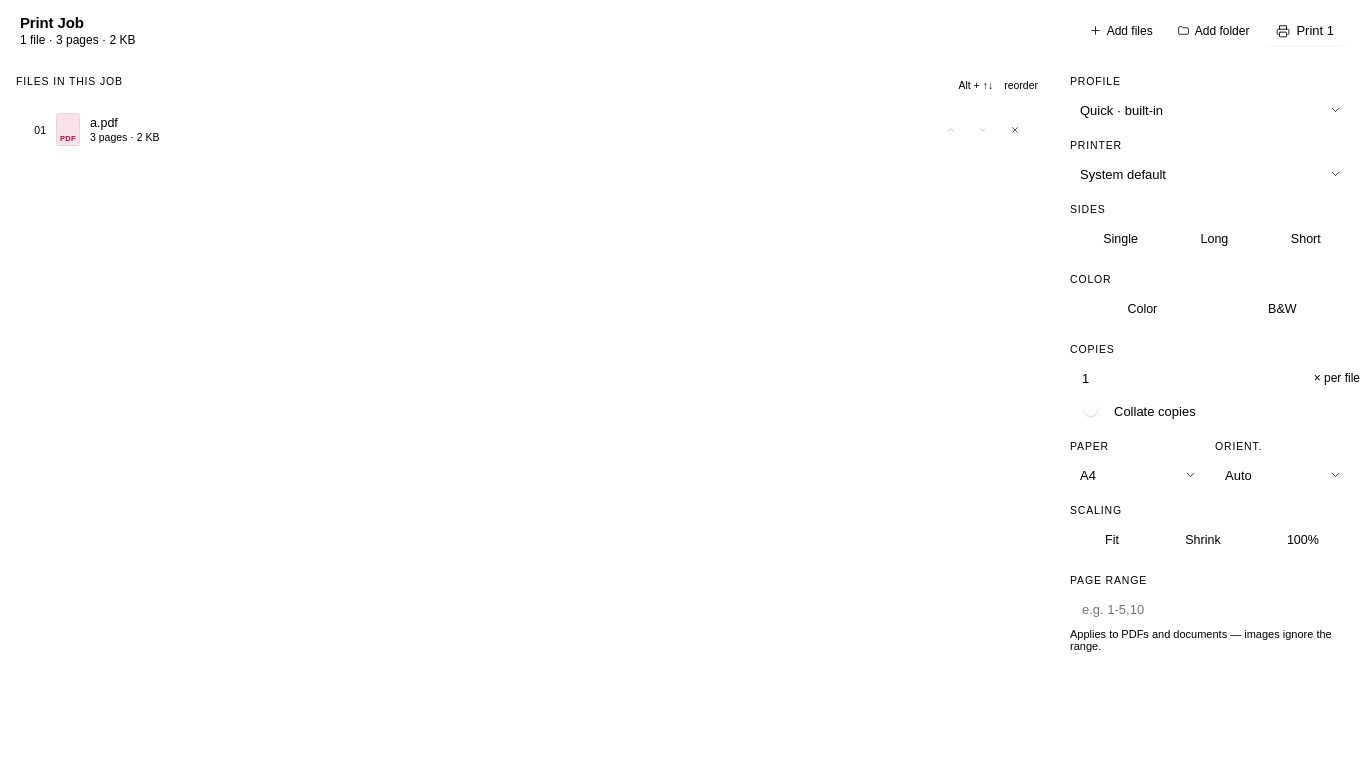
Test: PrintJobScreen › flags an inverted page range and disables Print
Type "5-1" into the field with placeholder "e.g. 1-5,10". click: (1220, 609)
box: x1=1080 y1=593 x2=1360 y2=625
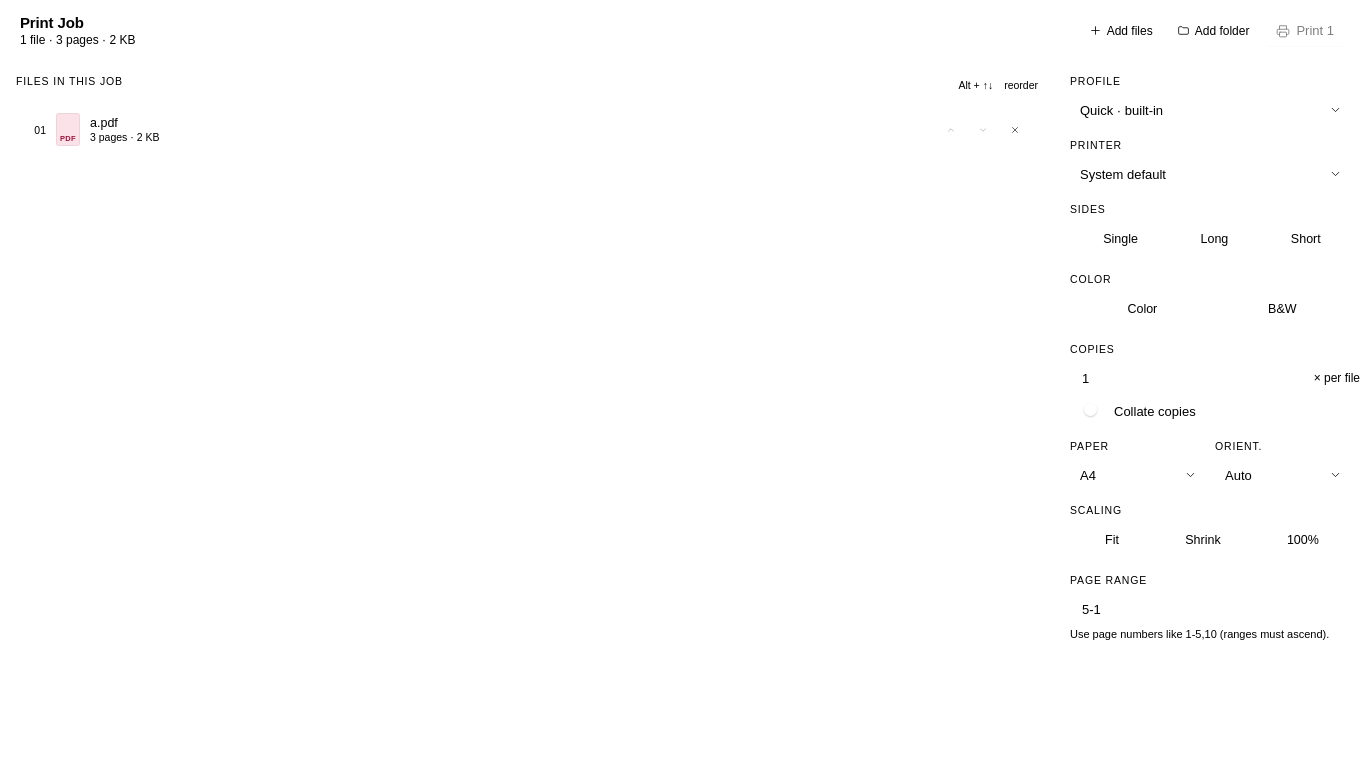
expect the text "Use page numbers like 1-5,10 (ranges must ascend)." is shown: met, box x1=1070 y1=628 x2=1350 y2=640
expect the button "Print 1" is disabled: met, box x1=1264 y1=16 x2=1346 y2=46
Replace the text in the field with placeholder "e.g. 1-5,10" with "1-3". click: (1220, 609)
box: x1=1080 y1=593 x2=1360 y2=625
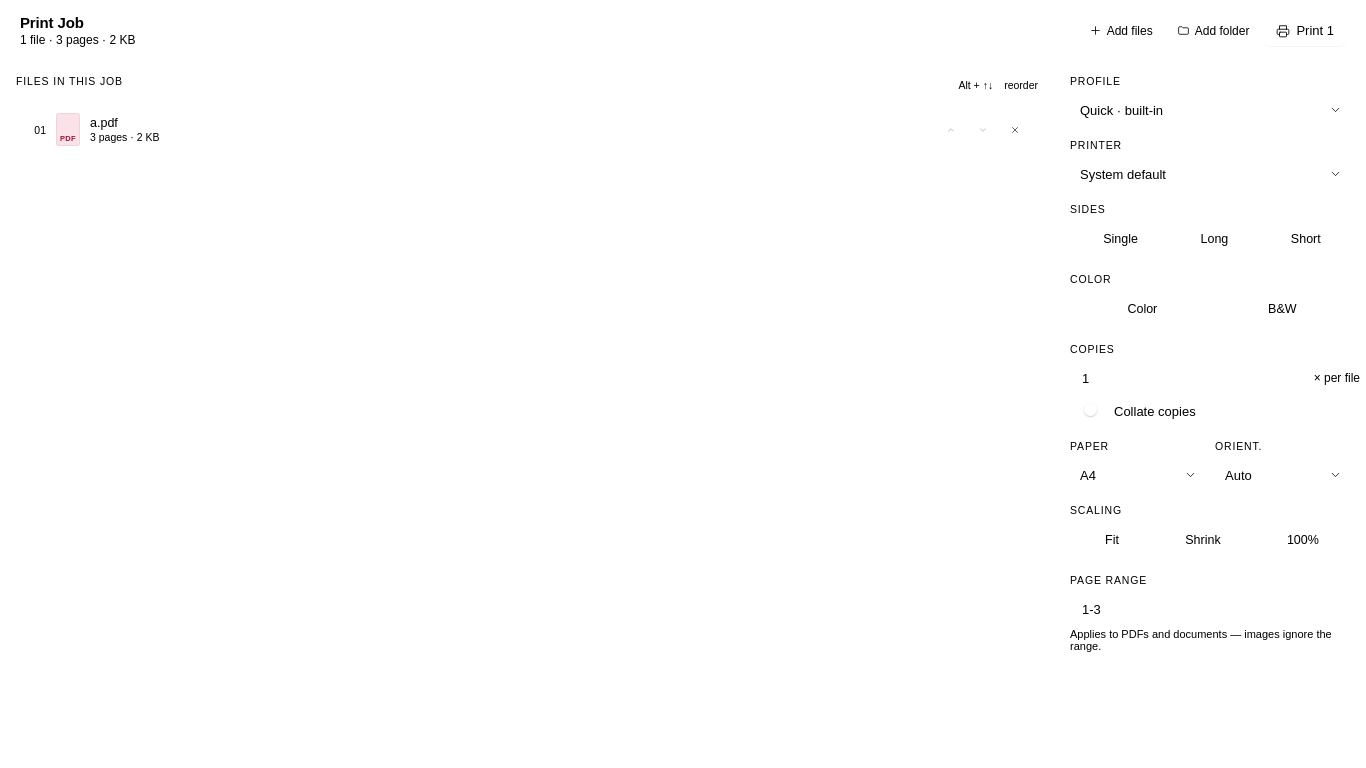
expect the button "Print 1" is enabled: met, box x1=1264 y1=16 x2=1346 y2=46
